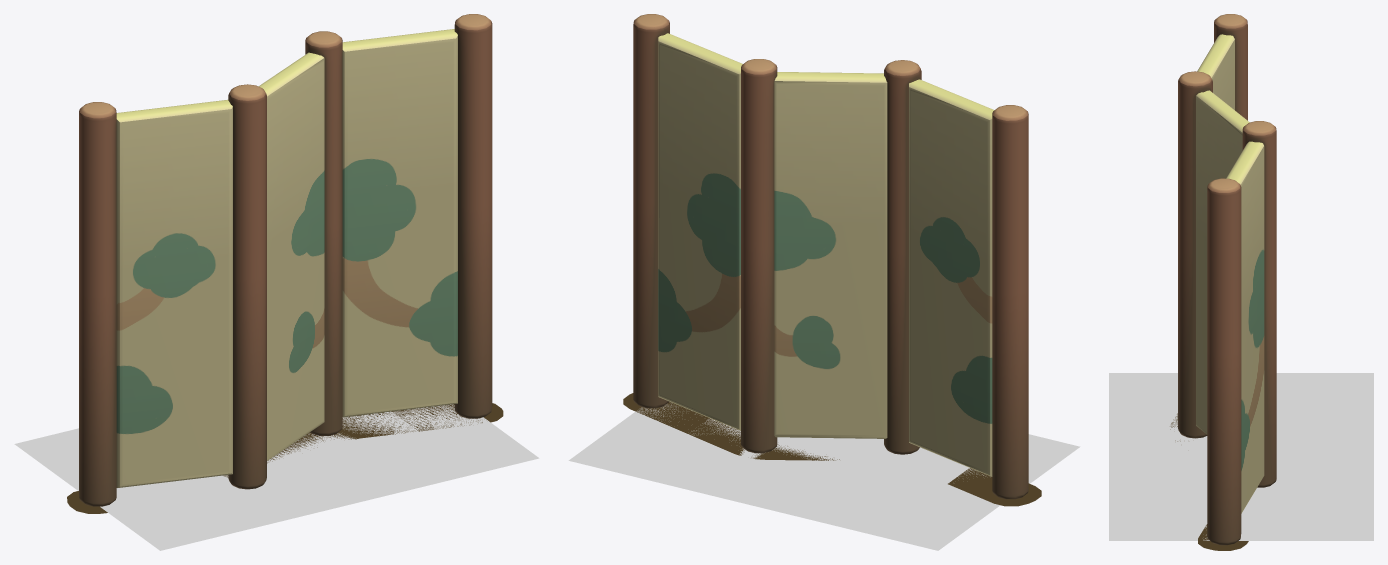
Rendered from JP_ScreenDoor.fbx.
3 renders of one model, left to right at view 1: azimuth 30°, elevation 25°; view 2: azimuth 150°, elevation 25°; view 3: azimuth 270°, elevation 25°, orthographic. The views are drawn at different scales.
Parts seen in each view (by area): view 1: polySurface2, ScreenDoor_Grid, ScreenDoor_Grid_Large, Shadow; view 2: polySurface2, ScreenDoor_Grid, ScreenDoor_Grid_Large, Shadow; view 3: polySurface2, ScreenDoor_Grid, ScreenDoor_Grid_Large, Shadow.
Part boxes in pixels (bbox=[...]): polySurface2: bbox=[79, 14, 492, 506]; ScreenDoor_Grid: bbox=[78, 412, 476, 535]; ScreenDoor_Grid_Large: bbox=[14, 404, 539, 550]; Shadow: bbox=[67, 403, 503, 513]; polySurface2: bbox=[633, 14, 1028, 499]; ScreenDoor_Grid: bbox=[630, 418, 969, 535]; ScreenDoor_Grid_Large: bbox=[568, 403, 1080, 550]; Shadow: bbox=[623, 393, 1041, 506]; polySurface2: bbox=[1178, 14, 1276, 545]; ScreenDoor_Grid: bbox=[1109, 401, 1373, 512]; ScreenDoor_Grid_Large: bbox=[1109, 373, 1373, 540]; Shadow: bbox=[1170, 413, 1248, 550].
Bounding box in the file's own units: 1.68 × 1.48 × 1.
